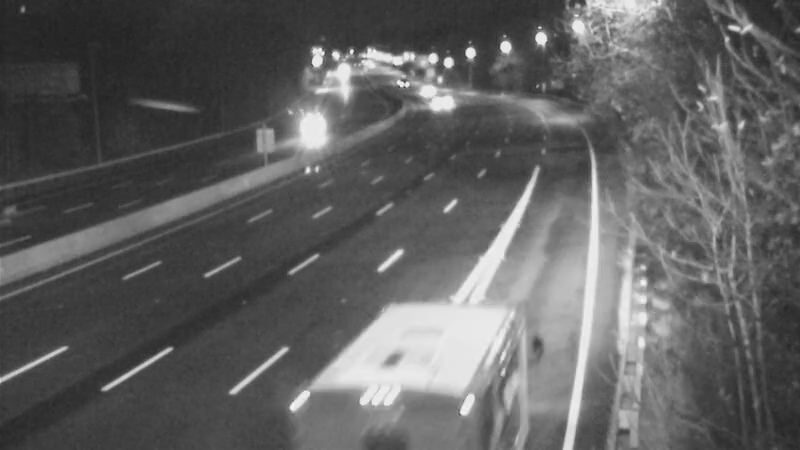vehicle: (350, 346, 460, 450), (373, 54, 423, 104), (395, 62, 445, 112), (413, 78, 463, 128), (289, 100, 339, 150)
